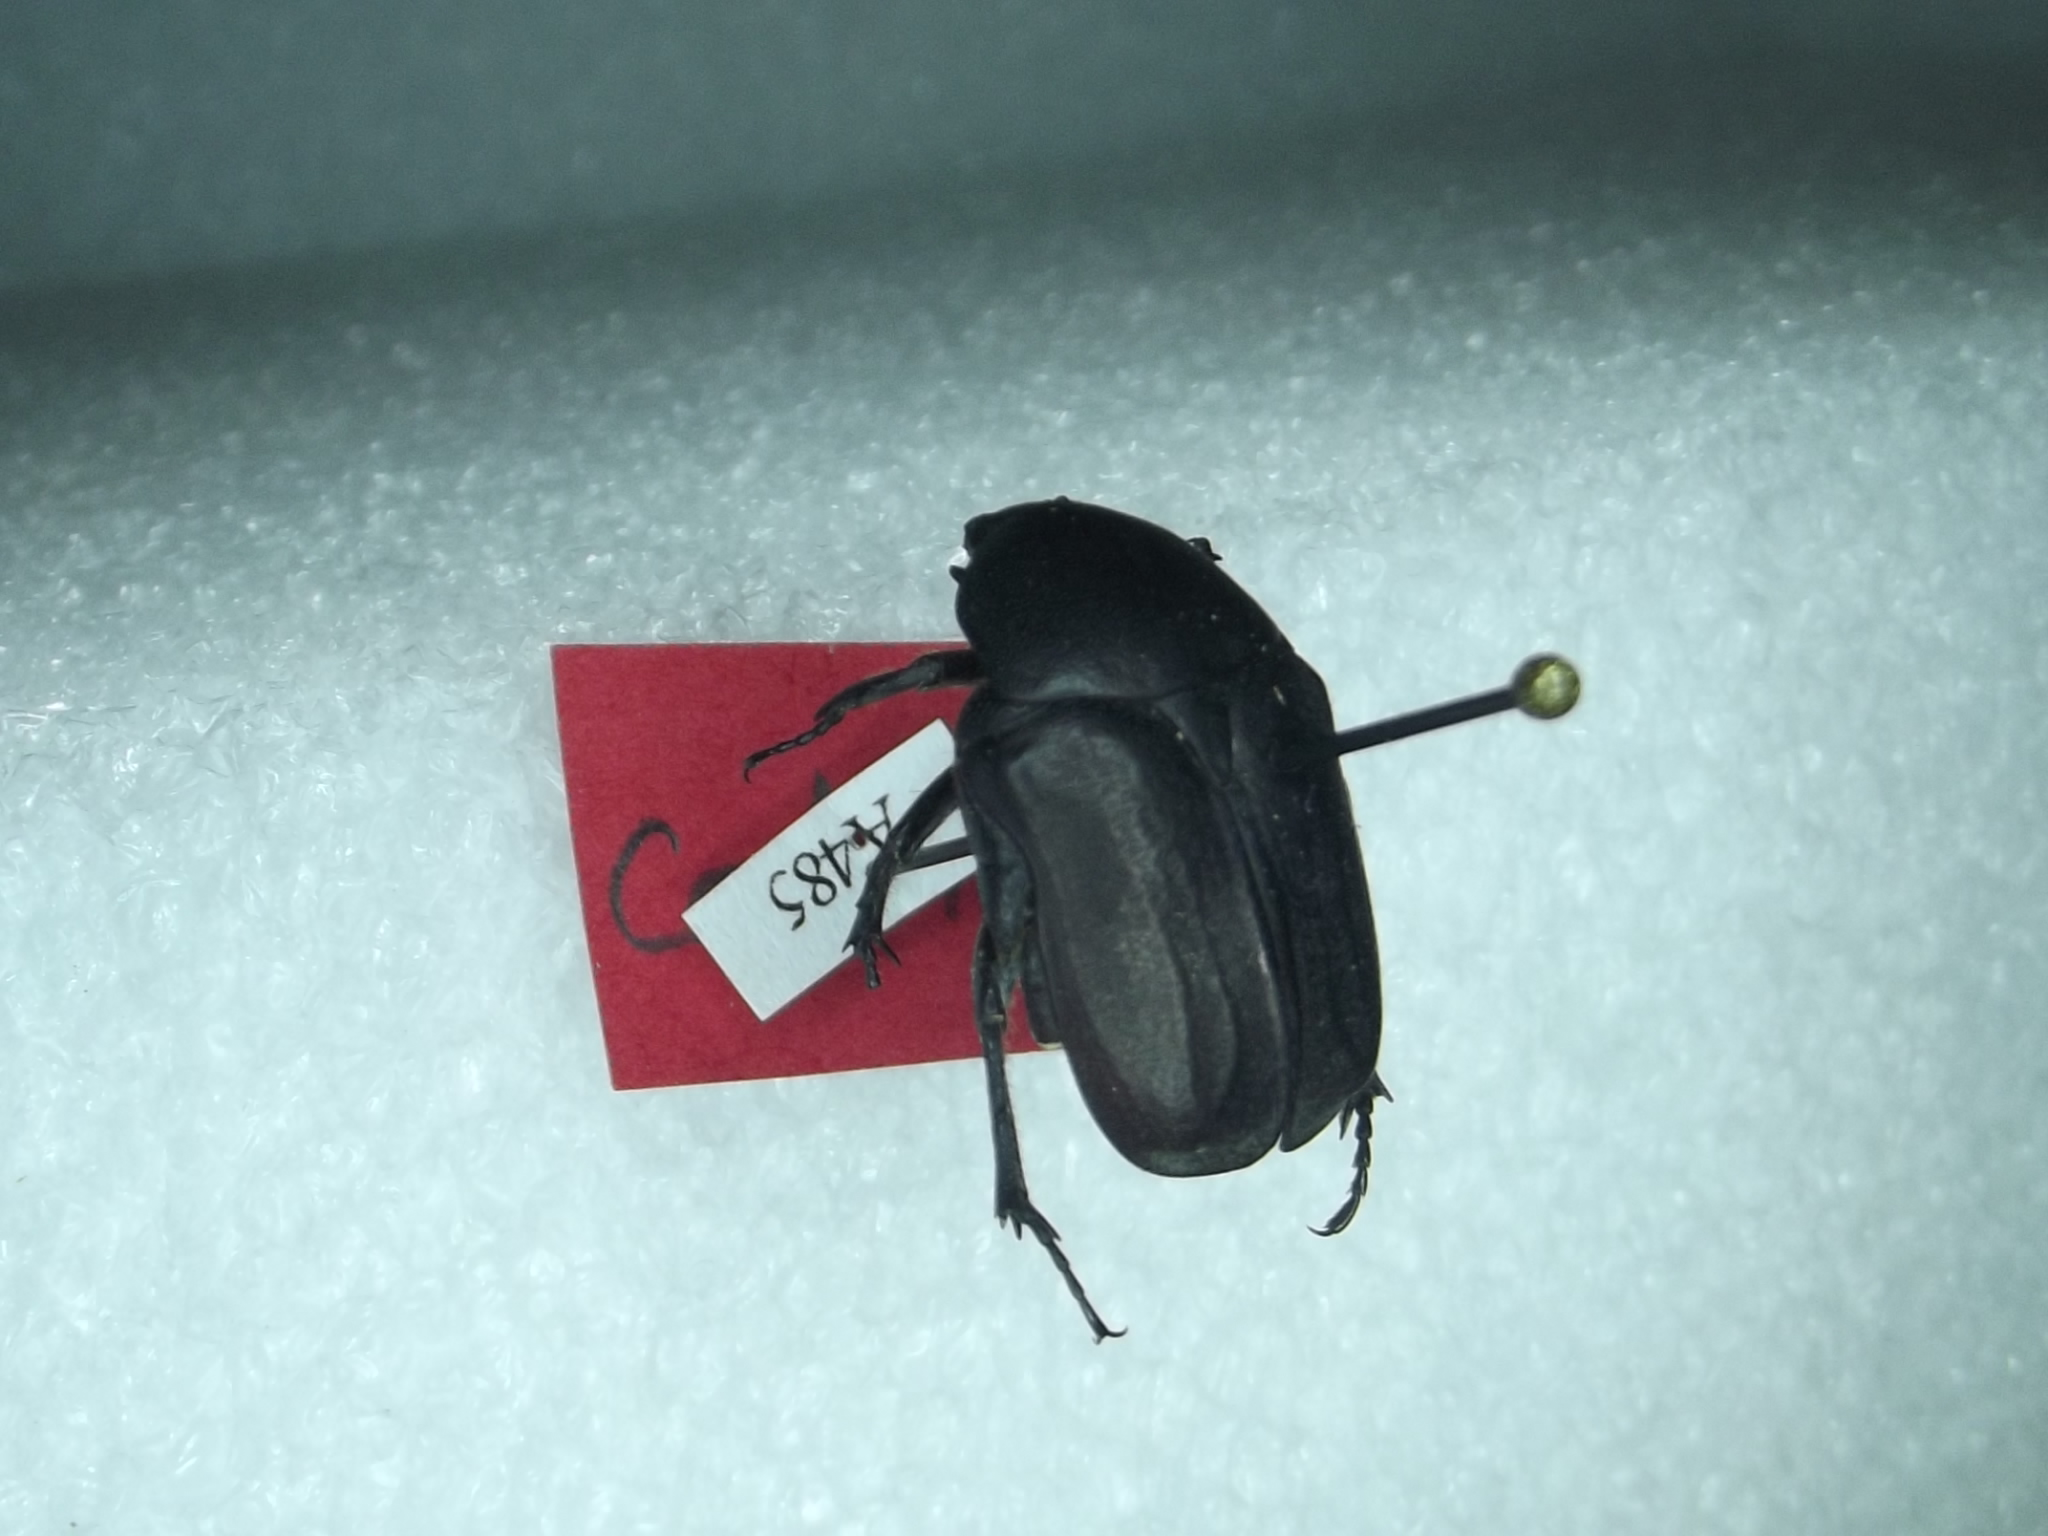Protaetia_vidua: (735, 432, 1406, 1360)
